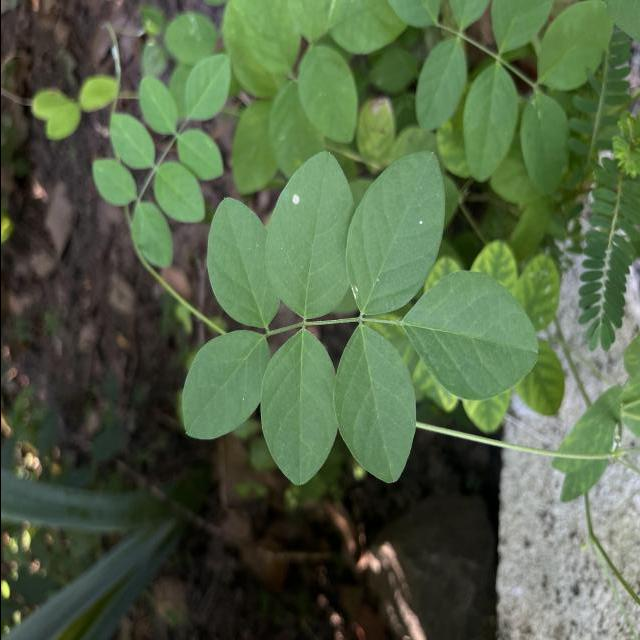Clitoria ternatea: (401, 268, 538, 402), (344, 150, 446, 317), (262, 150, 356, 320), (332, 322, 416, 485), (258, 328, 340, 488), (180, 328, 272, 442), (204, 196, 281, 329)
